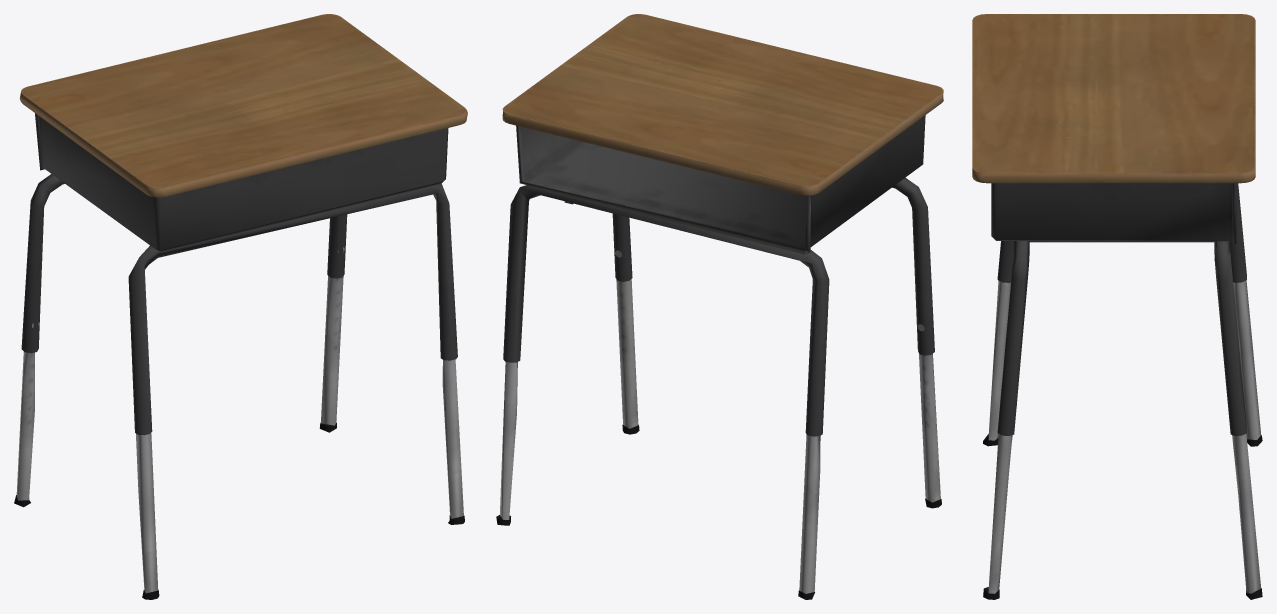
File: schooldesk.glb
3 views of the same model, side by side, from view 1: azimuth 30°, elevation 25°; view 2: azimuth 150°, elevation 25°; view 3: azimuth 270°, elevation 25° (orthographic). The views are drawn at different scales.
Visible parts, largest first — view 1: SchoolDesk_01; view 2: SchoolDesk_01; view 3: SchoolDesk_01.
Part boxes in pixels (left/top/right/bottom): SchoolDesk_01: left=14, top=14, right=467, bottom=599; SchoolDesk_01: left=496, top=14, right=943, bottom=599; SchoolDesk_01: left=972, top=14, right=1262, bottom=599.
Bounding box in the file's own units: 0.7101 × 0.8826 × 0.5438.
Materials: 1 (1 with a texture image).
